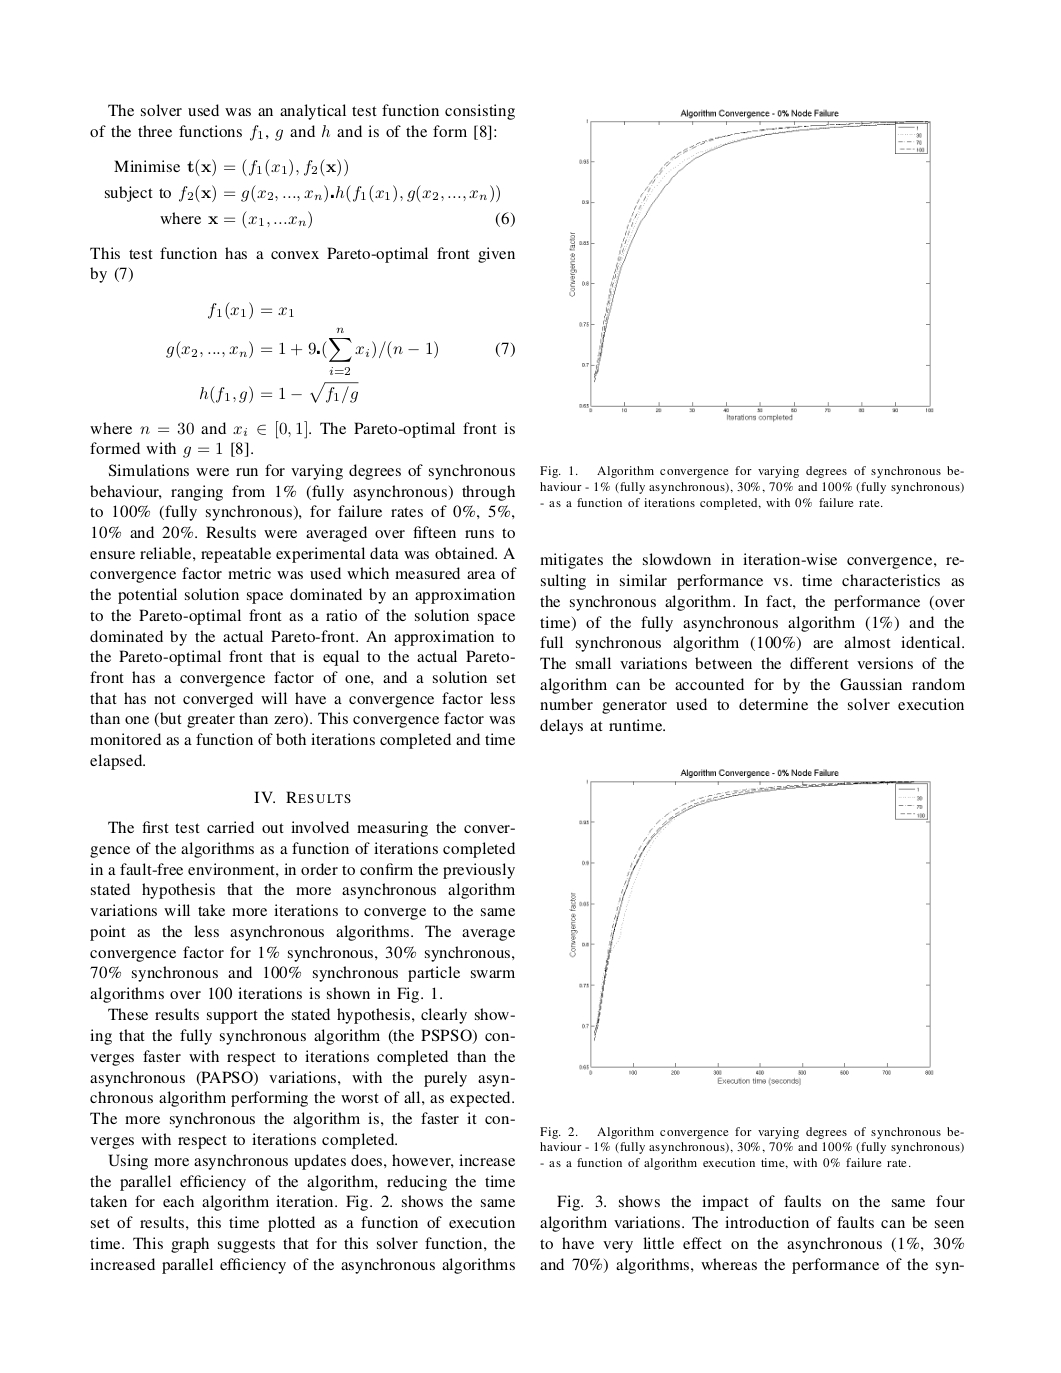figure: (570, 779, 933, 1085), (570, 118, 933, 421)
formula: (166, 327, 514, 374), (104, 184, 499, 203), (160, 210, 514, 228), (114, 158, 347, 177), (199, 381, 358, 405), (208, 301, 293, 320)
